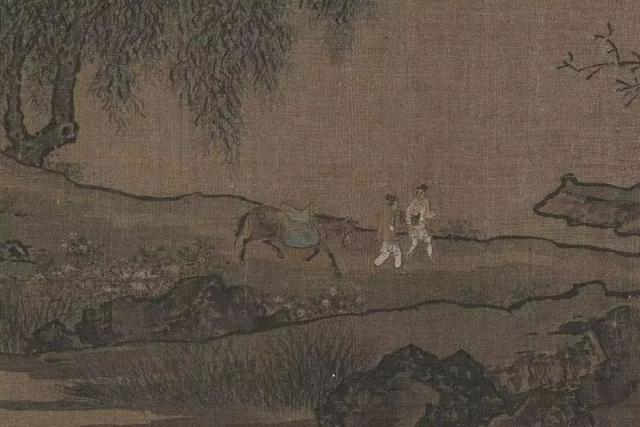grass: (111, 348, 343, 402), (40, 239, 209, 288)
horse: (235, 196, 359, 273)
man: (364, 190, 405, 270), (405, 176, 438, 274)
river: (118, 61, 640, 167)
willow: (1, 11, 387, 166)
